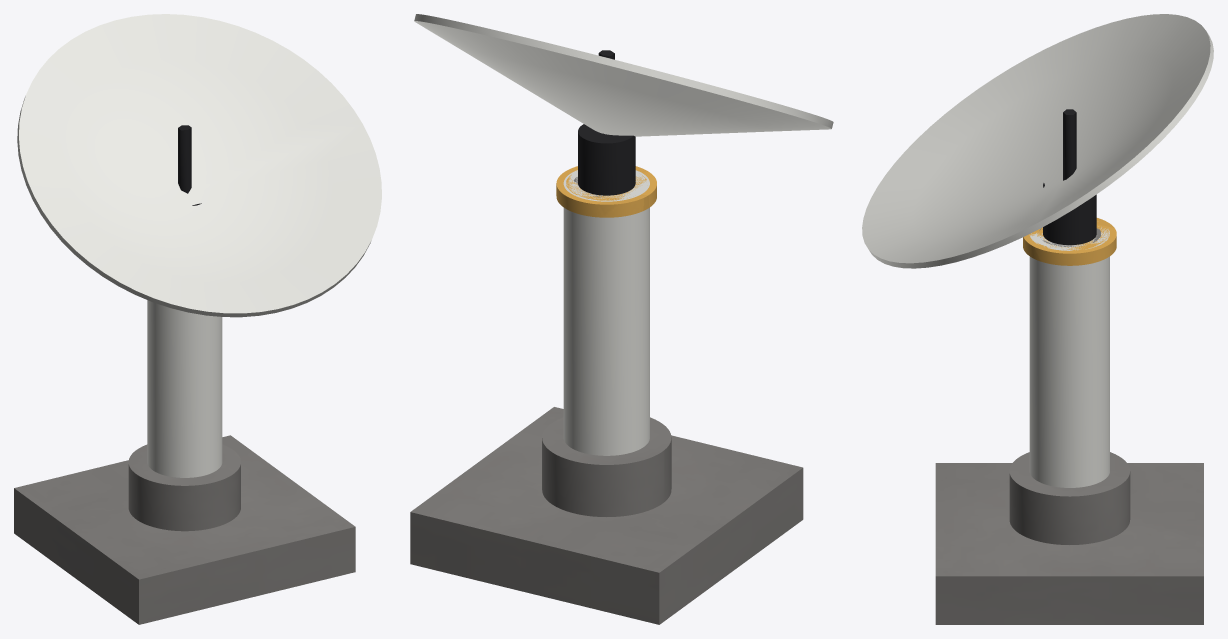
The model's file is rover36_antenna_mast.glb.
3 views of the same model, side by side, from view 1: azimuth 30°, elevation 25°; view 2: azimuth 150°, elevation 25°; view 3: azimuth 270°, elevation 25° (orthographic). The views are drawn at different scales.
Parts seen in each view (by area): view 1: head_dish, base, mast_1, head_gimbal; view 2: base, mast_1, head_dish, head_gimbal, mast_collars; view 3: head_dish, base, mast_1, head_gimbal, mast_collars.
Boxes of the visible parts, <box> form: head_dish: <box>17,14,381,317</box>; base: <box>14,435,355,624</box>; mast_1: <box>147,300,222,477</box>; head_gimbal: <box>178,125,201,205</box>; base: <box>410,407,803,624</box>; mast_1: <box>563,170,649,455</box>; head_dish: <box>414,14,833,136</box>; head_gimbal: <box>578,50,635,195</box>; mast_collars: <box>556,166,656,217</box>; head_dish: <box>862,14,1213,268</box>; base: <box>935,452,1203,624</box>; mast_1: <box>1029,226,1109,487</box>; head_gimbal: <box>1043,109,1096,245</box>; mast_collars: <box>1023,218,1116,265</box>.
Bounding box in the file's own units: 0.5996 × 0.8566 × 0.5245.
4 materials, 2 textured.
